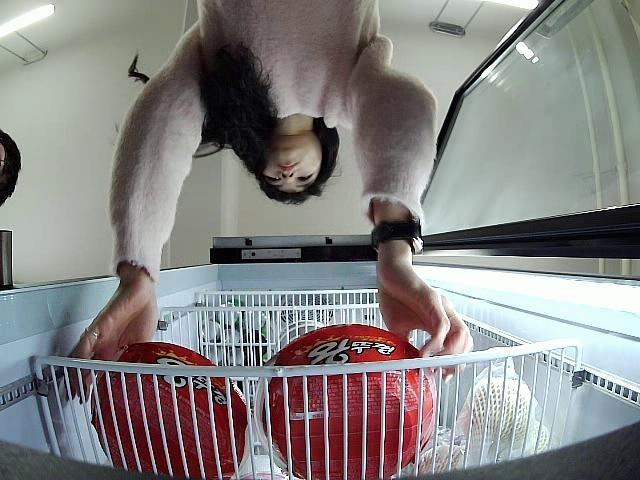10_wangTtukkeong: (254, 324, 440, 480), (93, 341, 250, 480)
